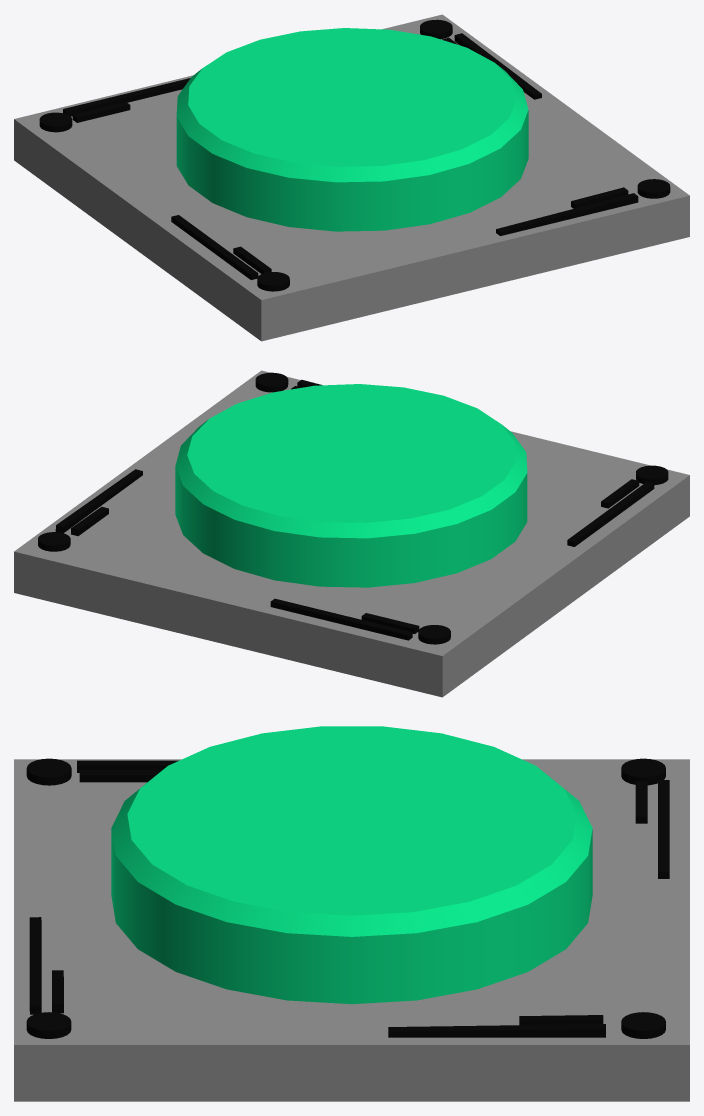
File: Boton.fbx
3 renders of one model, top to bottom at view 1: azimuth 30°, elevation 25°; view 2: azimuth 150°, elevation 25°; view 3: azimuth 270°, elevation 25°, orthographic. The views are drawn at different scales.
Parts seen in each view (by area): view 1: pCube8; view 2: pCube8; view 3: pCube8.
Part boxes in pixels (left/top/right/bottom): pCube8: left=14, top=14, right=689, bottom=341; pCube8: left=14, top=370, right=689, bottom=697; pCube8: left=14, top=726, right=689, bottom=1101.
Size of the model in its own units: 1.89 by 0.4271 by 1.89.
